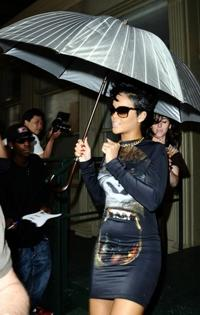person: (74, 80, 170, 314)
